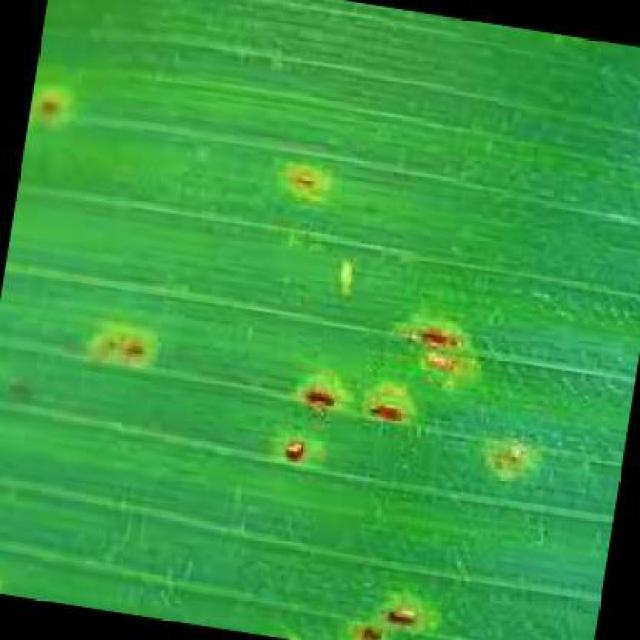Corn_Rust: (93, 140, 562, 603)
